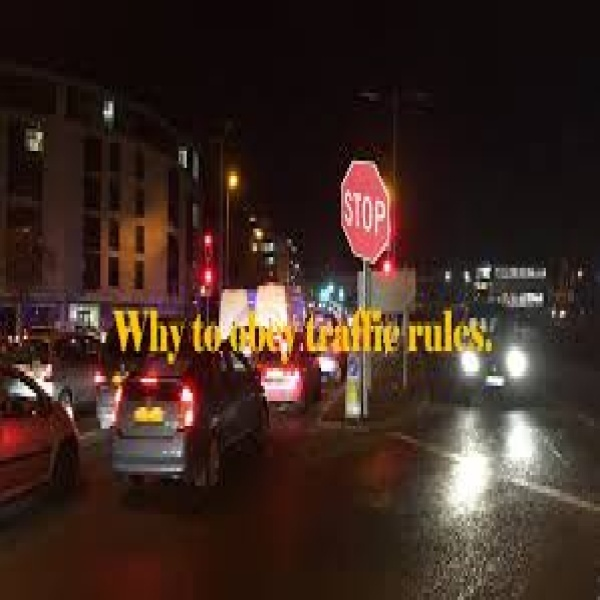stop: (258, 201, 335, 310)
